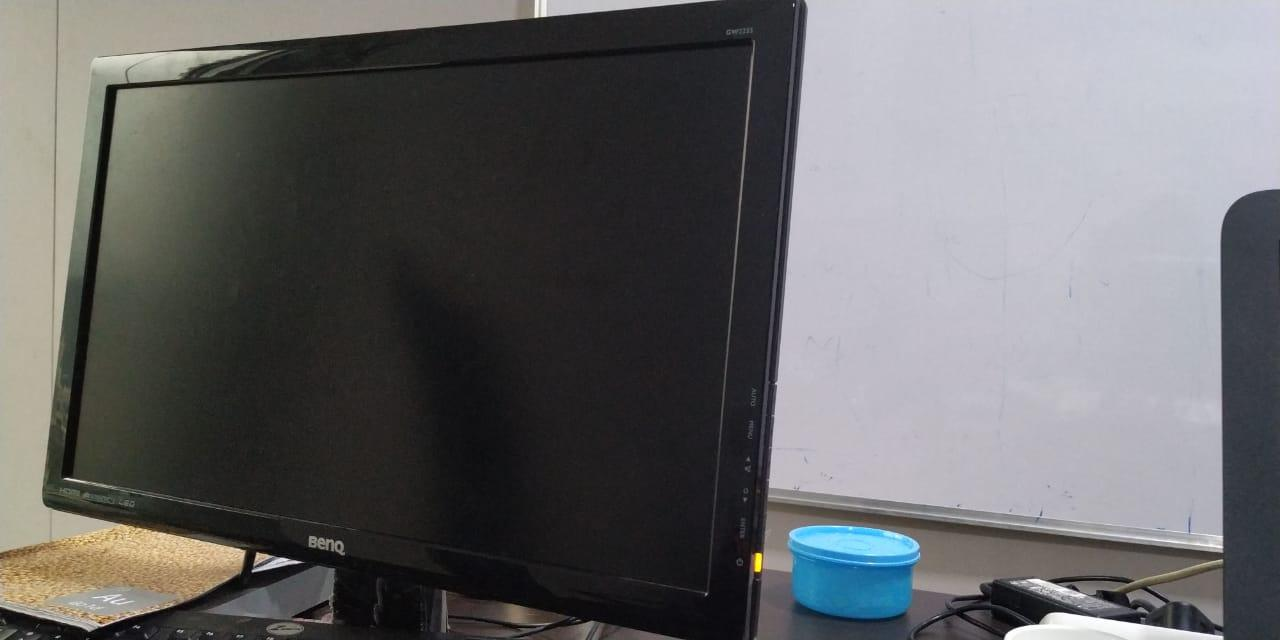monitor: (32, 3, 815, 640)
